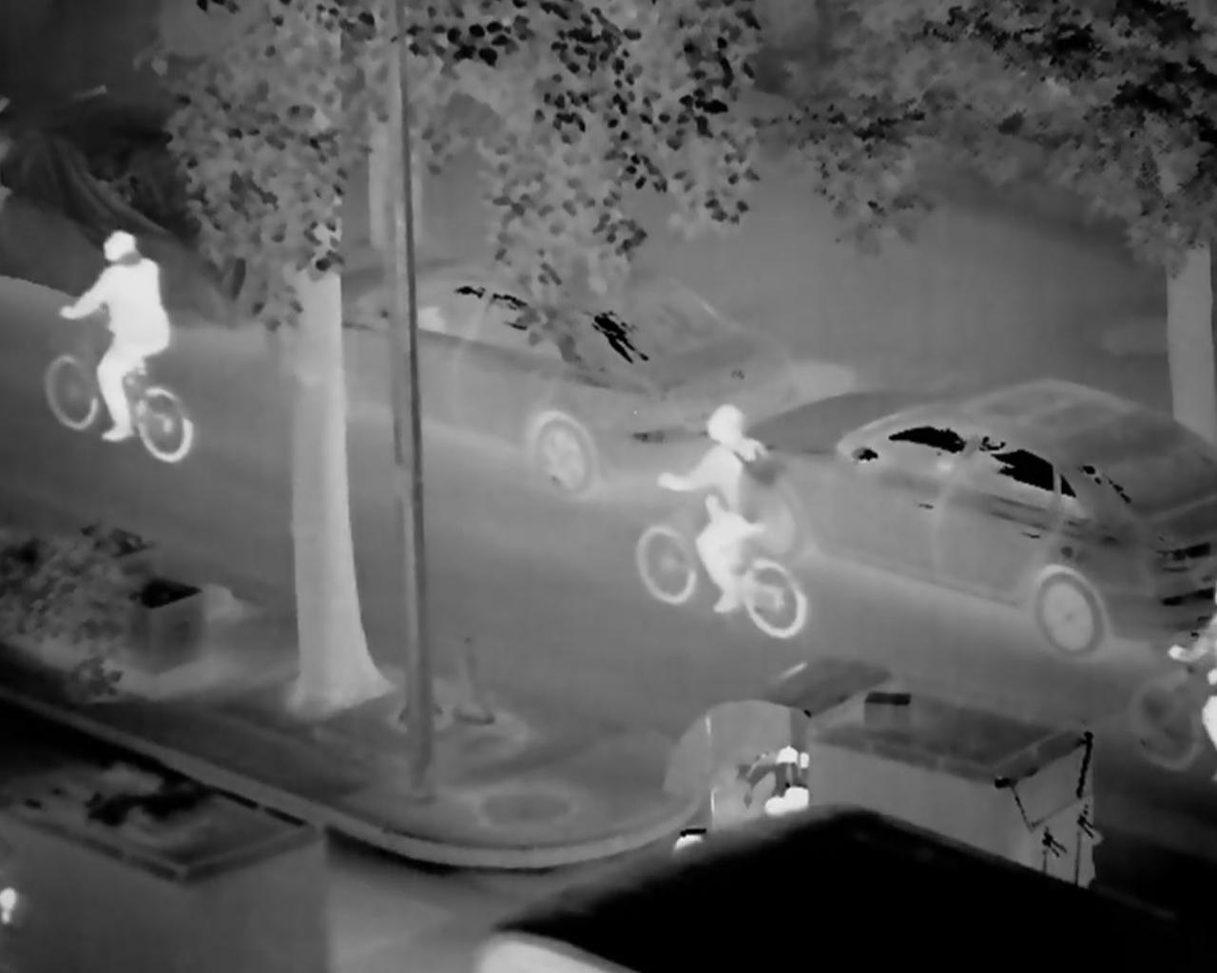person: (649, 401, 785, 642), (56, 228, 175, 449), (1171, 590, 1217, 747), (748, 747, 811, 811)
